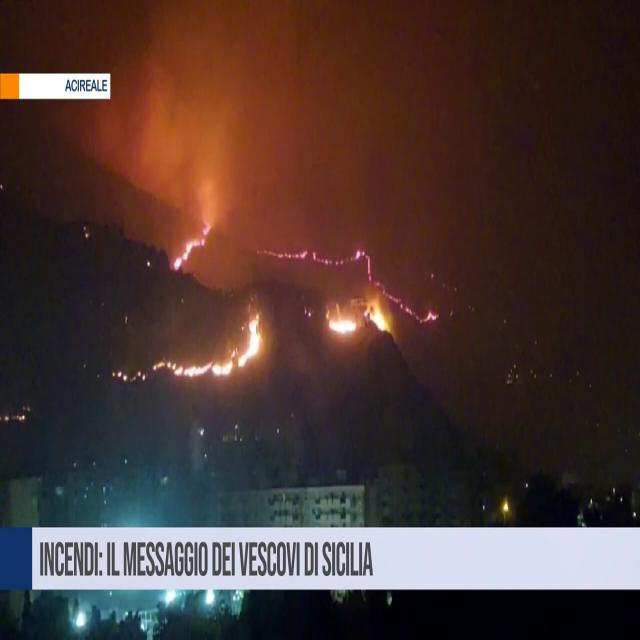Fire: (324, 284, 394, 344), (212, 308, 267, 382)
Smoke: (98, 2, 536, 240)
